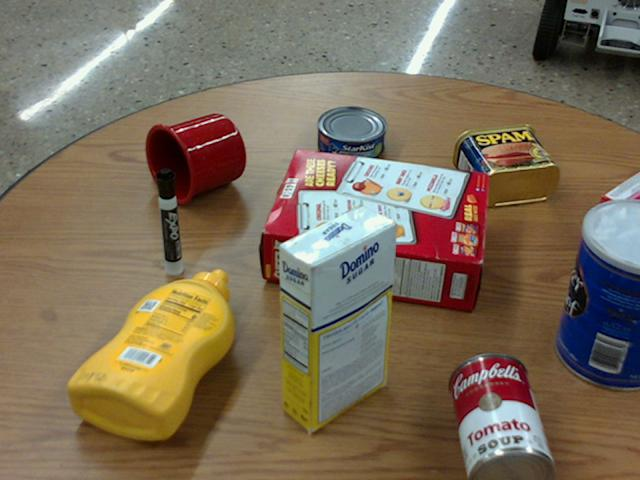cracker_box: (262, 149, 485, 306)
gelatin_box: (587, 170, 639, 260)
large_marker: (156, 168, 181, 274)
master_chef_can: (555, 199, 639, 389)
mug: (145, 112, 245, 204)
mustard_bottle: (70, 269, 233, 437)
potted_meat_can: (453, 124, 559, 204)
sugar_box: (279, 206, 396, 430)
tomato_soup_can: (449, 351, 555, 479)
tuna_fish_can: (318, 106, 387, 162)
